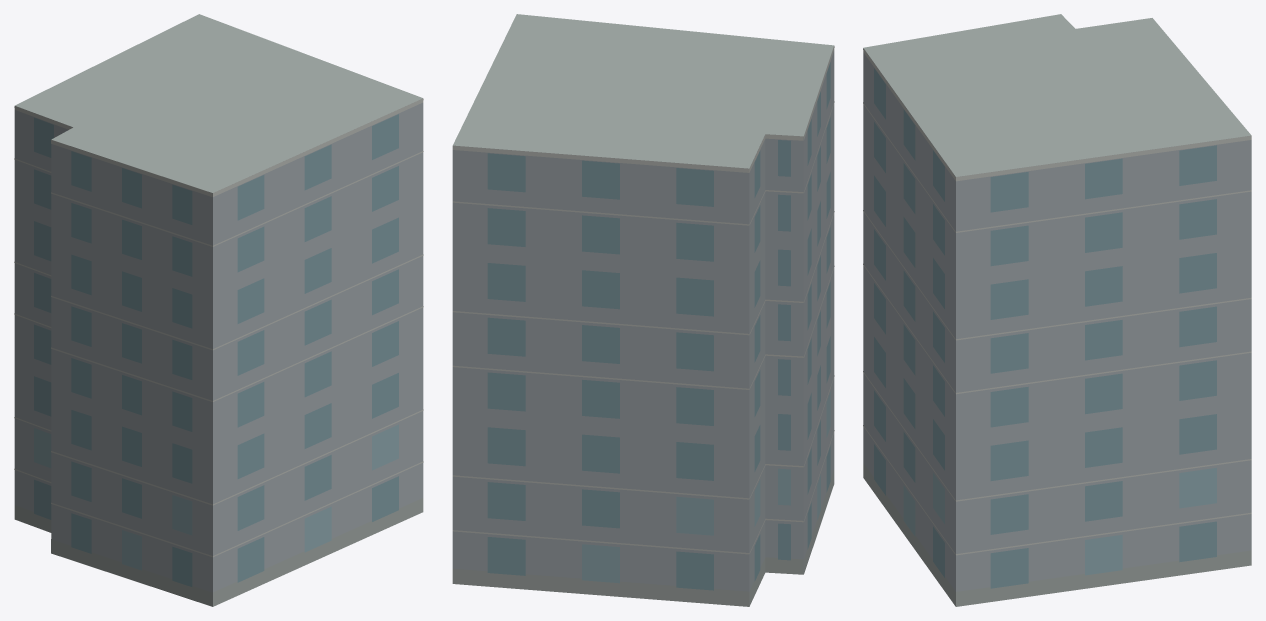
File: survey-upis-32852359.glb
The picture shows the model from 3 angles, left to right: view 1: azimuth 30°, elevation 25°; view 2: azimuth 150°, elevation 25°; view 3: azimuth 270°, elevation 25°; orthographic projection. The views are drawn at different scales.
Parts seen in each view (by area): view 1: survey-upis-32852359.tmp; view 2: survey-upis-32852359.tmp; view 3: survey-upis-32852359.tmp.
Part boxes in pixels (x1,y1,x2,y2): survey-upis-32852359.tmp: [14, 14, 423, 606]; survey-upis-32852359.tmp: [452, 14, 834, 606]; survey-upis-32852359.tmp: [863, 14, 1251, 606].
Bounding box in the file's own units: 19.75 × 24.25 × 19.88.
